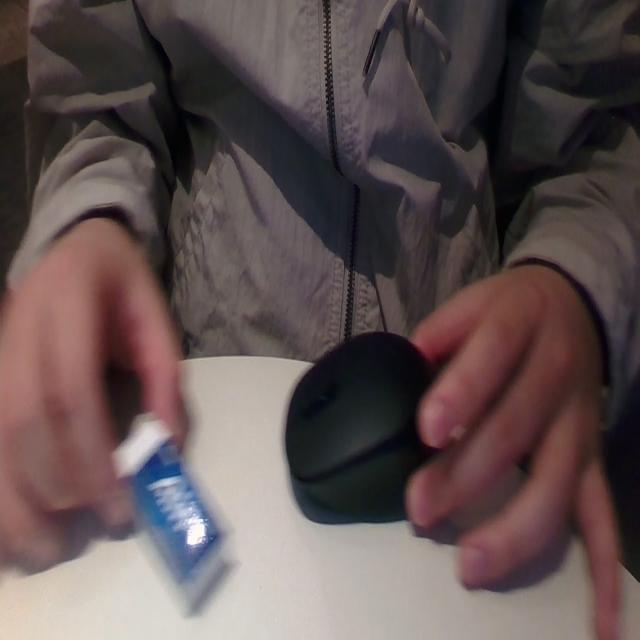eraser: (108, 408, 231, 599)
grab_eraser: (0, 238, 250, 615)
grab_mouse: (290, 277, 608, 582)
hand: (1, 189, 217, 489), (424, 275, 609, 580)
mouse: (282, 346, 436, 497)
